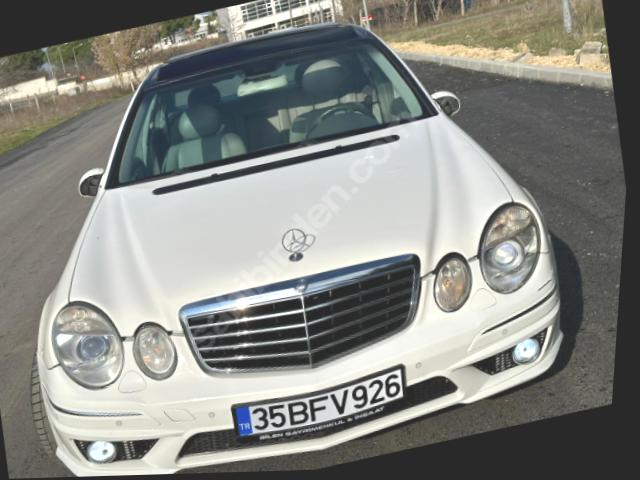plaka: (233, 365, 405, 436)
